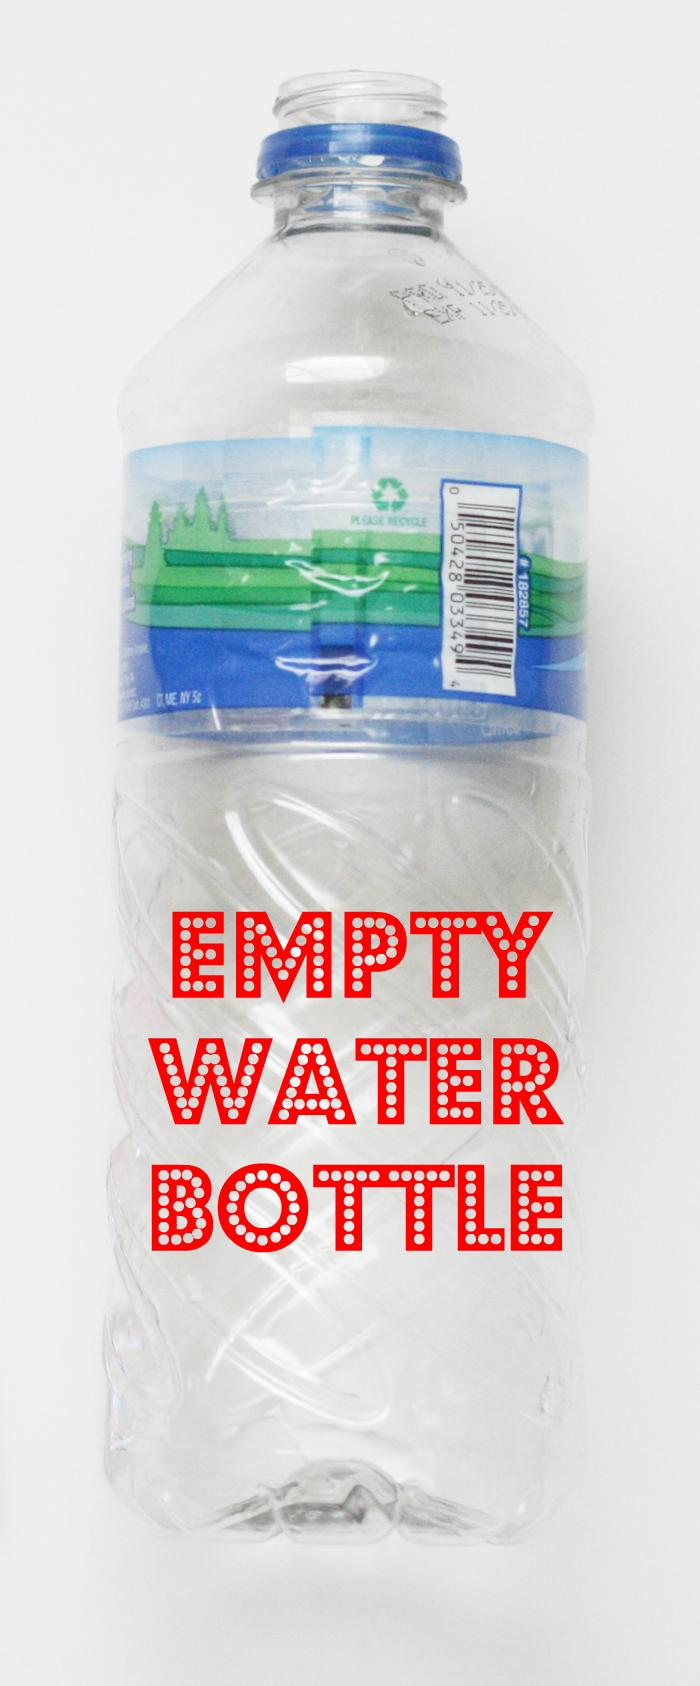bottle: (71, 38, 613, 1572)
